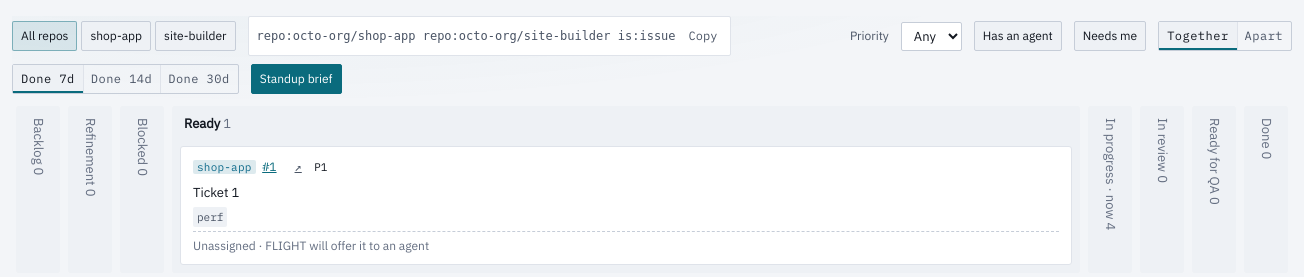
Scenario: lanes › shows the query for the lane and copies it
(page scrolled)
Expected: the element showing "Backlog 0" is shown, x1=16 y1=106 x2=60 y2=273
Expected: the link "Open in GitHub ↗" is not shown
Step 1. Click the button "shop-app" → (116, 36), box x1=82 y1=21 x2=151 y2=51
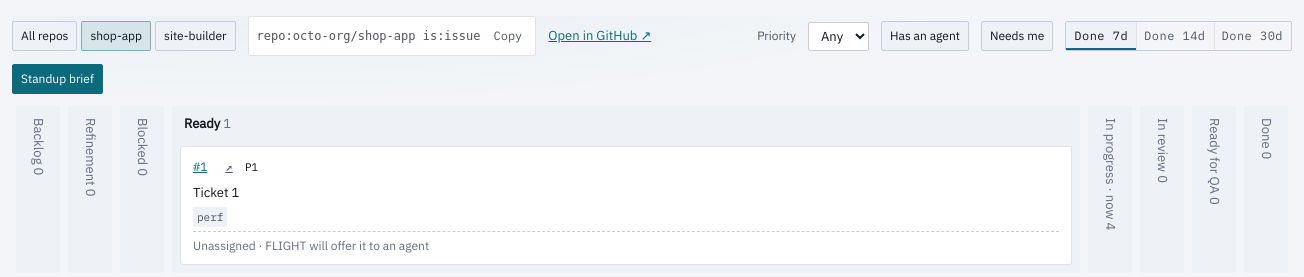
Step 2. Click the button titled "Copy the GitHub query" → (508, 36), box x1=484 y1=21 x2=531 y2=51
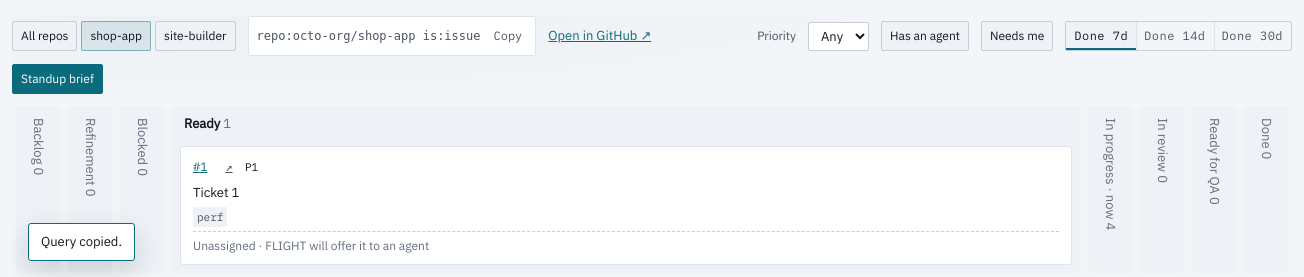
Result: the message reads "Query copied." at x1=41 y1=233 x2=122 y2=250
